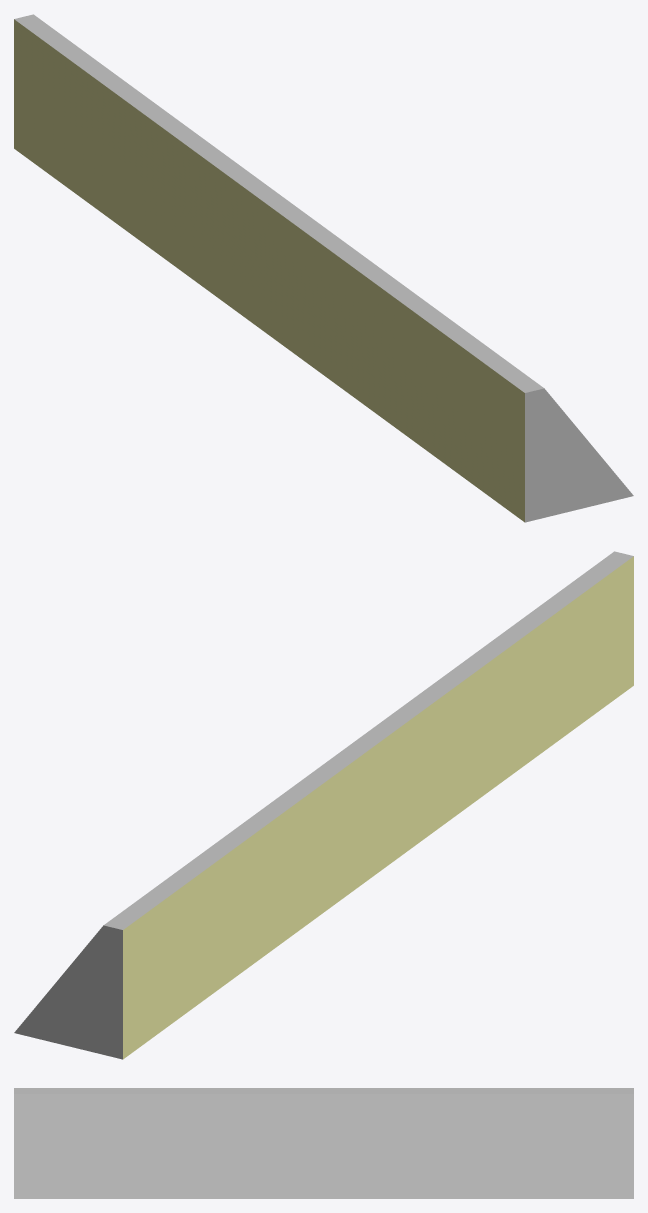
The model's file is arrow_flat.glb.
3 renders of one model, top to bottom at view 1: azimuth 30°, elevation 25°; view 2: azimuth 150°, elevation 25°; view 3: azimuth 270°, elevation 25°, orthographic. The views are drawn at different scales.
Visible parts, largest first — view 1: arrow_flat_VIS; view 2: arrow_flat_VIS; view 3: arrow_flat_VIS.
Boxes of the visible parts, x1,y1,x2,y2 form: arrow_flat_VIS: (14, 14, 633, 522); arrow_flat_VIS: (14, 551, 633, 1059); arrow_flat_VIS: (14, 1088, 633, 1198).
Size of what is drawn, in the model's own units: 4.41 by 5 by 35.77.
